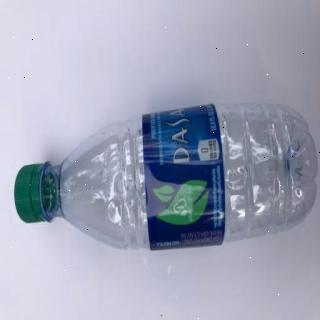Plastic-bottle: (13, 101, 319, 254)
